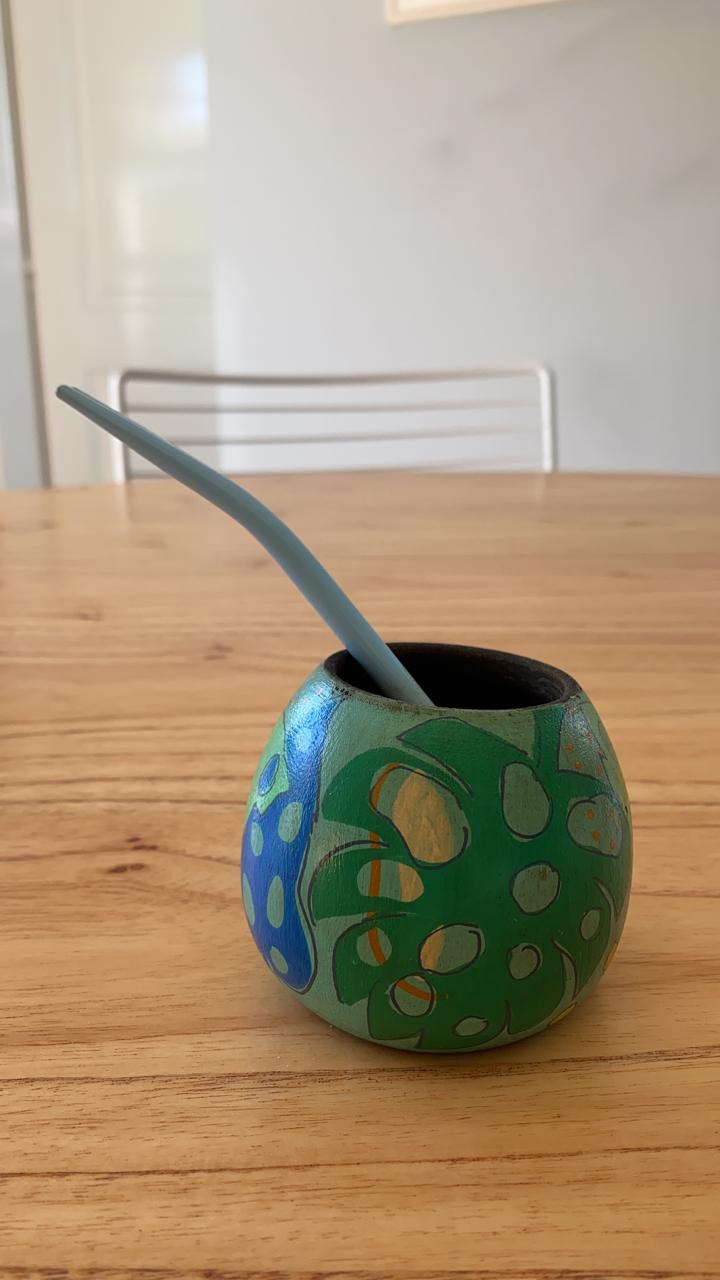mate: (239, 645, 635, 1060)
